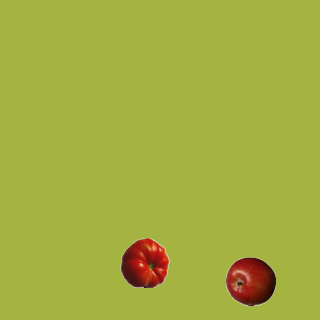Apple Braeburn: (225, 256, 275, 306)
Tomato 3: (119, 237, 169, 287)
